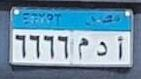6: (57, 34, 70, 60), (43, 35, 55, 59), (29, 35, 41, 58), (15, 35, 26, 59)
alif: (114, 35, 126, 61)
daal: (95, 40, 111, 57)
meem: (73, 37, 90, 60)
